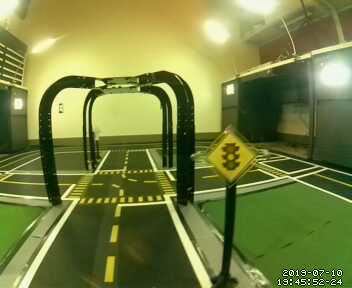Traffic light sign: (207, 131, 254, 183)
